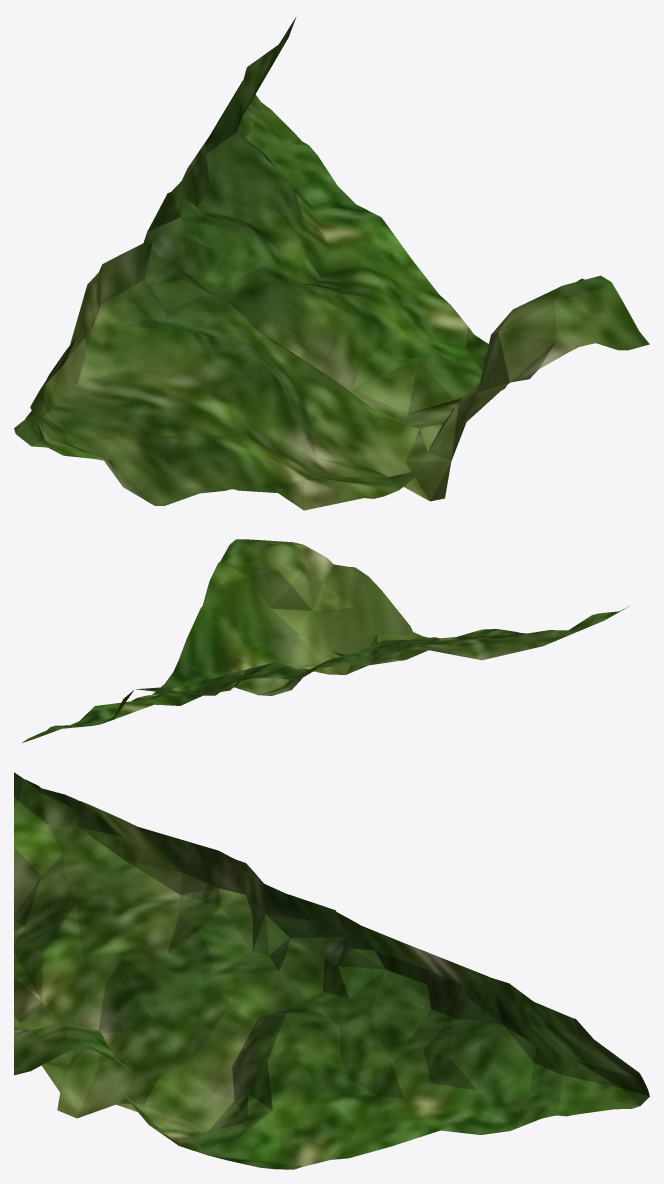
The picture shows the model from 3 angles, top to bottom: view 1: azimuth 30°, elevation 25°; view 2: azimuth 150°, elevation 25°; view 3: azimuth 270°, elevation 25°; orthographic projection. The views are drawn at different scales.
Bounding box in the file's own units: 1.38 × 0.4431 × 1.51.
Materials: 1 (1 with a texture image).
